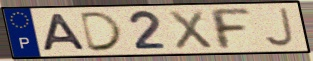2: (126, 9, 171, 52)
A: (40, 12, 89, 52)
D: (79, 10, 127, 53)
F: (206, 7, 254, 51)
J: (262, 7, 296, 49)
X: (167, 9, 216, 50)
